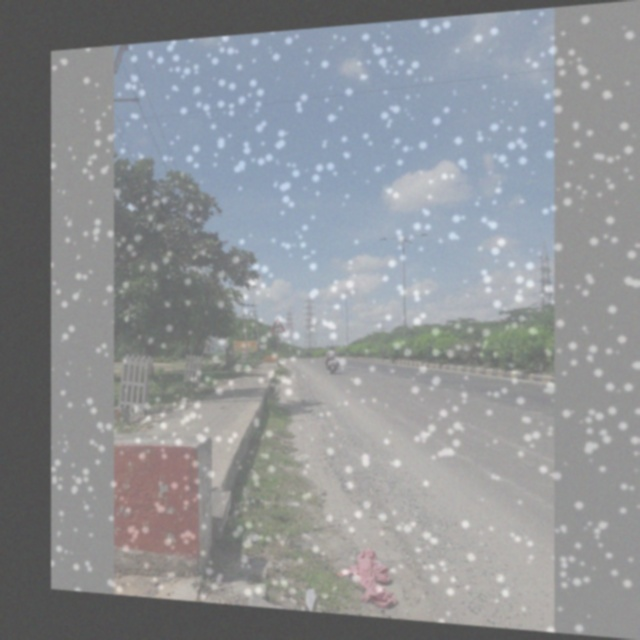Right_Hand_Curve: (269, 318, 284, 333)
